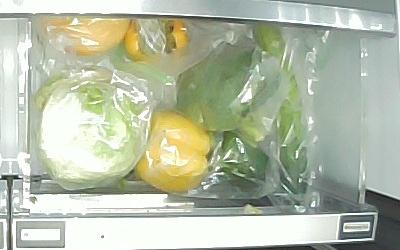broccoli_vinyl: (174, 41, 279, 143)
cucumber_vinyl: (251, 23, 307, 210)
grapefruit_vinyl: (36, 18, 133, 58)
lettuce_vinyl: (34, 71, 145, 189)
paprika_vinyl: (135, 111, 214, 193), (208, 131, 280, 192)
persimmon_vinyl: (126, 17, 188, 64)
